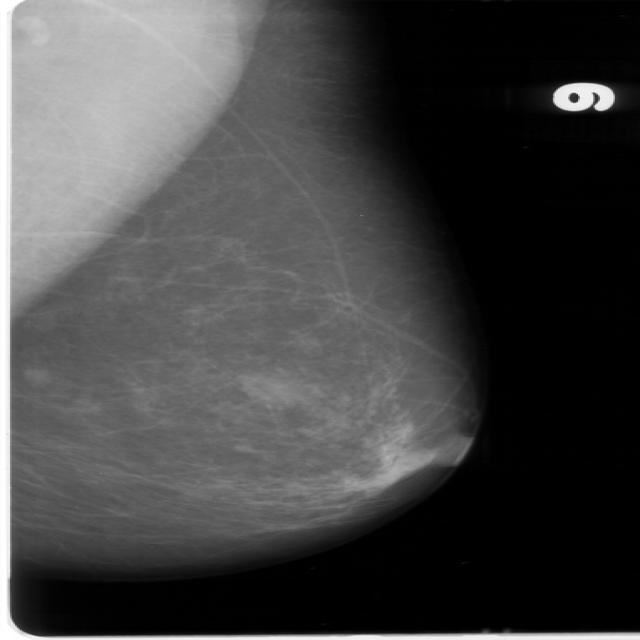tumour: (234, 370, 302, 405)
